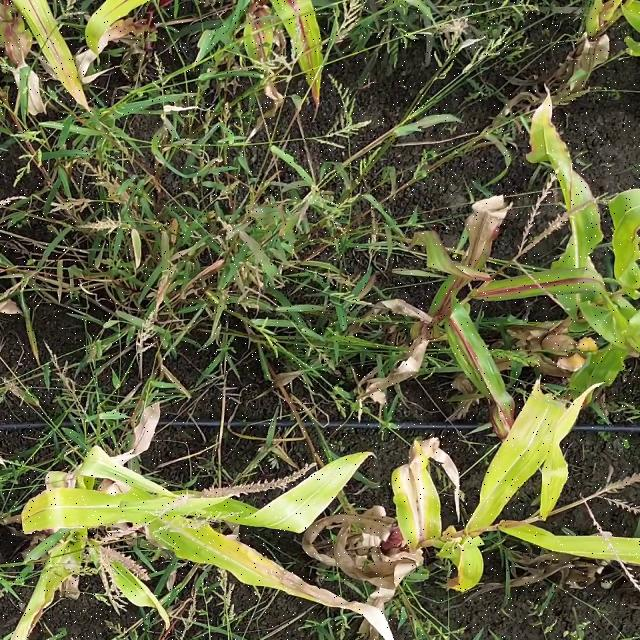northern-leaf-blight: (389, 464, 444, 542), (428, 242, 483, 303), (30, 12, 76, 74), (243, 22, 280, 62)
